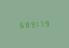eight: (22, 20, 26, 28)
nine: (28, 20, 32, 28), (43, 19, 47, 27)
one: (33, 20, 37, 27)
seven: (38, 19, 42, 27)
six: (17, 20, 21, 28)
